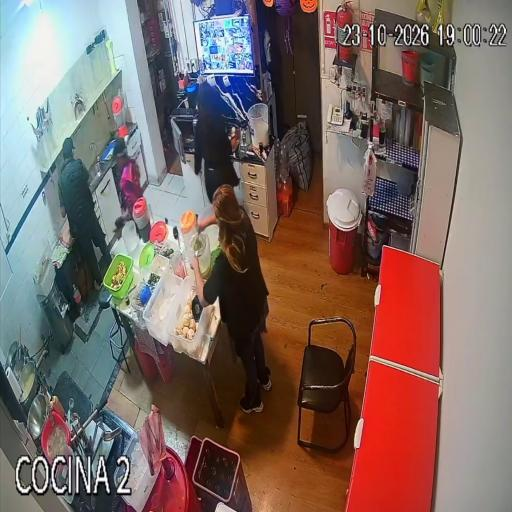Balde: (248, 103, 269, 149)
Envase Llajua: (51, 395, 63, 418)
Jarra1: (132, 197, 151, 242)
Jarra2: (180, 211, 197, 243)
Jarra3: (122, 220, 139, 254)
Microondas: (169, 107, 197, 158)
Persona1: (59, 138, 107, 284)
Persona2: (202, 186, 270, 411)
Persona3: (194, 83, 239, 202)
Persona5: (115, 139, 143, 216)
Taper: (103, 255, 133, 298)
Taper2: (128, 255, 170, 328)
Taper3: (143, 270, 183, 345)
Taper4: (165, 277, 219, 360)
Taper5: (115, 430, 158, 512)
